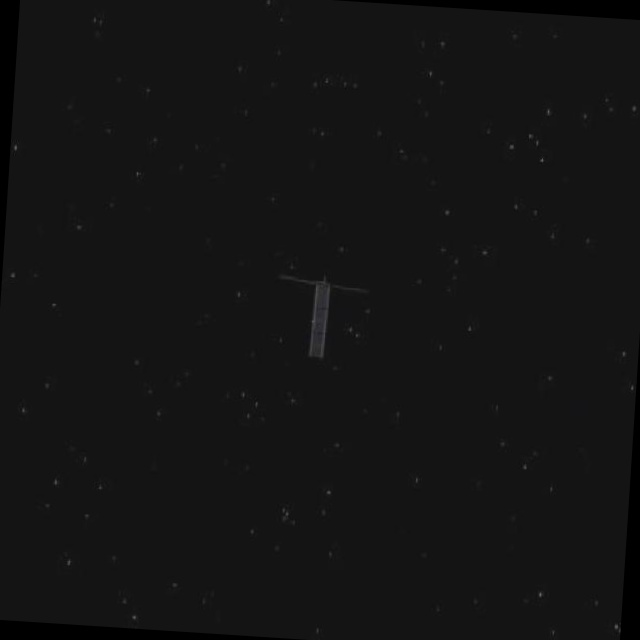medium_debris: (271, 260, 379, 357)
